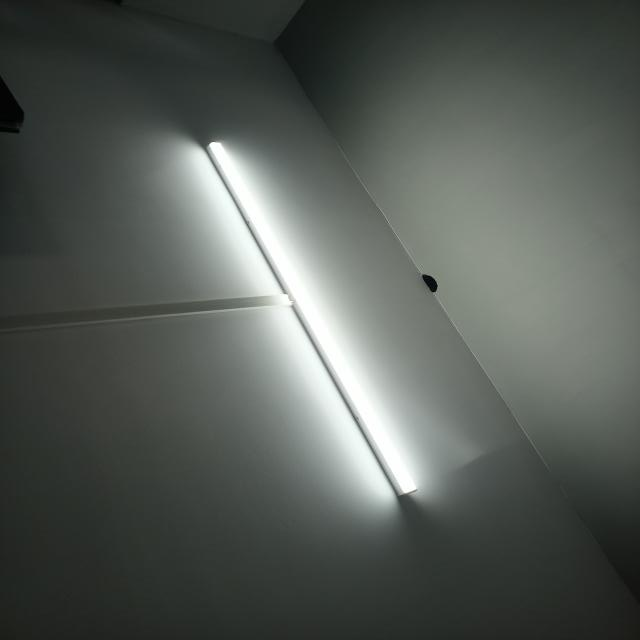fluorescent tube: (197, 136, 425, 509)
